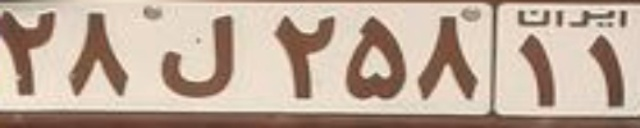1: (583, 32, 627, 106), (516, 32, 556, 106)
2: (271, 14, 334, 99), (0, 8, 58, 96)
5: (342, 15, 405, 101)
8: (412, 15, 484, 101), (69, 11, 132, 97)
lam: (155, 15, 231, 98)
